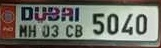character: (121, 12, 134, 35), (91, 12, 104, 34), (106, 13, 119, 35), (135, 13, 147, 35), (65, 23, 74, 37), (73, 23, 82, 37), (18, 24, 27, 37), (27, 24, 36, 37), (41, 24, 49, 37), (50, 24, 58, 37)
